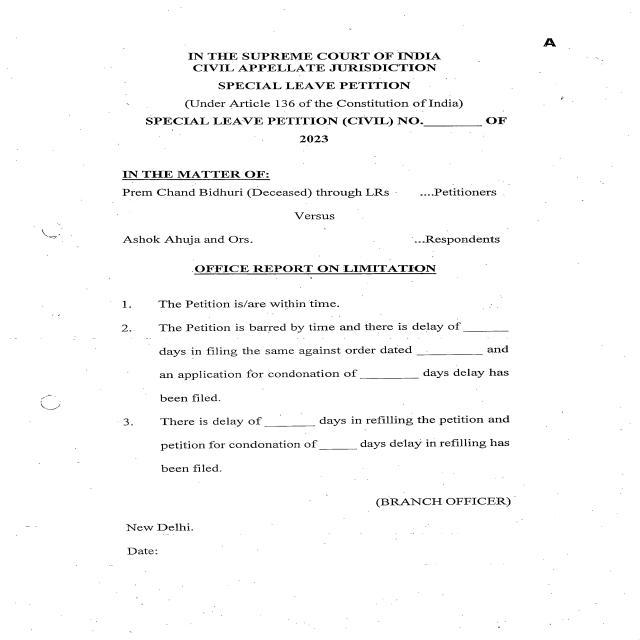page-number: (467, 5, 640, 116)
